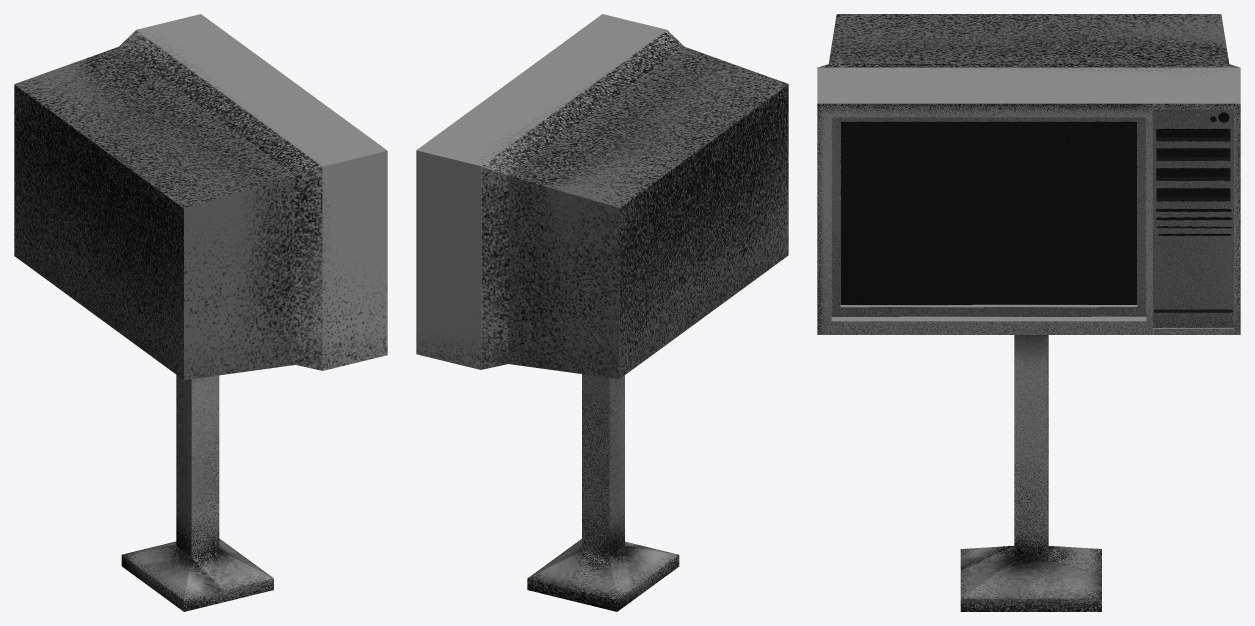
File: monik_with_lever.fbx
3 views of the same model, side by side, from view 1: azimuth 30°, elevation 25°; view 2: azimuth 150°, elevation 25°; view 3: azimuth 270°, elevation 25° (orthographic). The views are drawn at different scales.
Visible parts, largest first — view 1: monitor.001; view 2: monitor.001; view 3: monitor.001.
Part boxes in pixels (x1,y1,x2,y2): monitor.001: (14, 14, 387, 611); monitor.001: (416, 14, 788, 611); monitor.001: (817, 14, 1240, 611).
Bounding box in the file's own units: 428 × 598 × 258.
